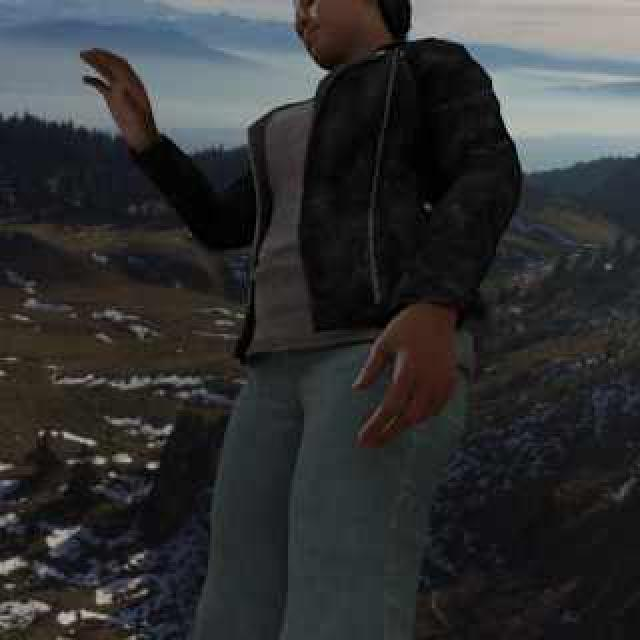not-gloved: (332, 277, 474, 454), (61, 32, 173, 160)
